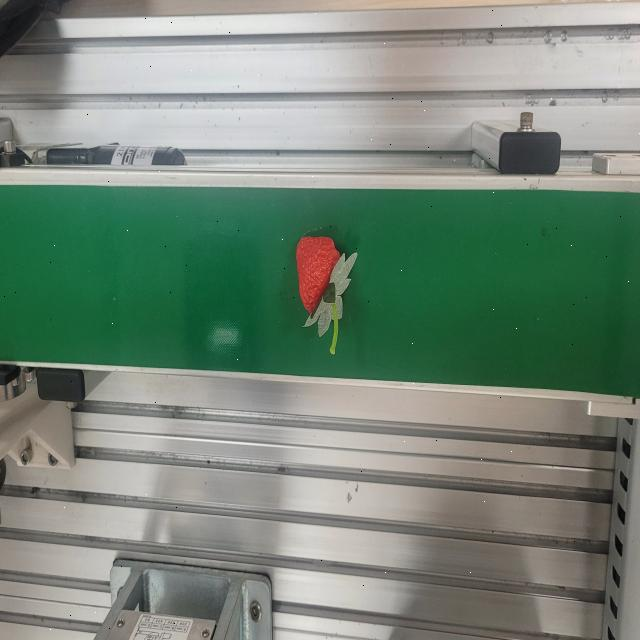Small Ripe Strawberry: (293, 229, 359, 357)
